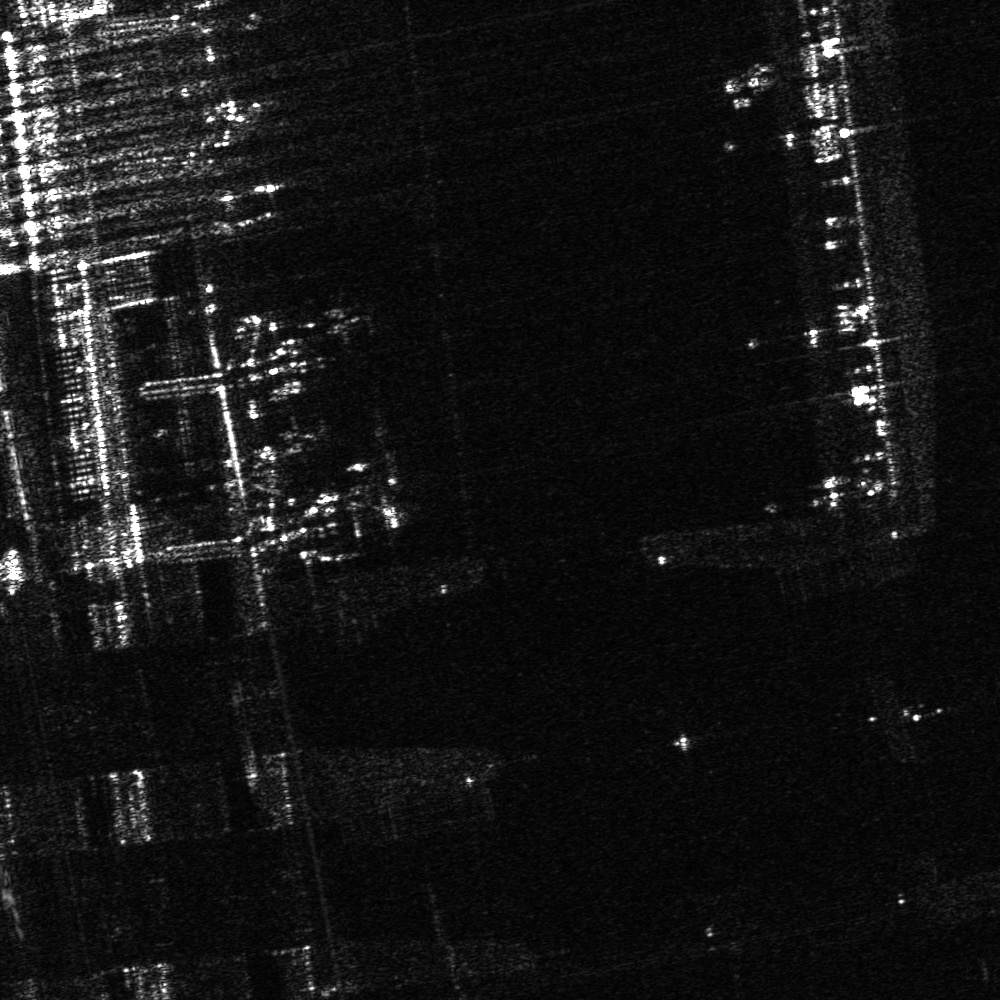Boeing737: (341, 476, 406, 540)
